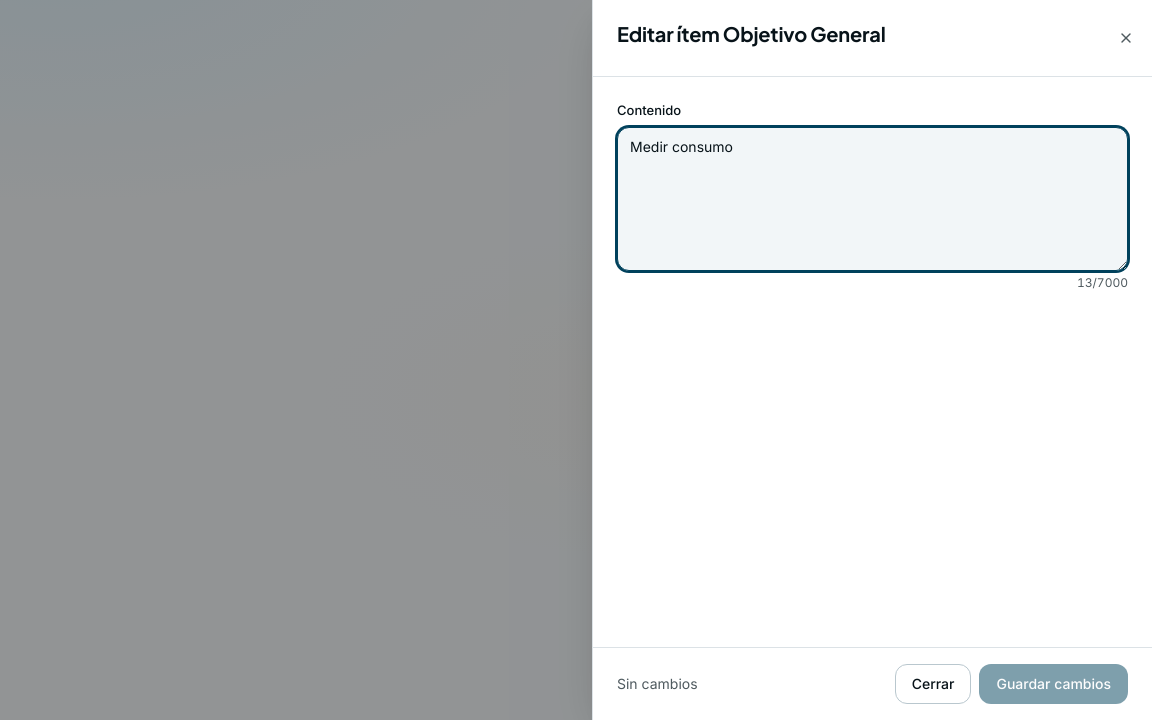
Test: EditarItemForm › cerrar sin cambios reinicia la mutación y cierra; con cambios pide confirmar
The image size is (1152, 720).
Click the button "Cerrar": (933, 684) [895,664,972,704]
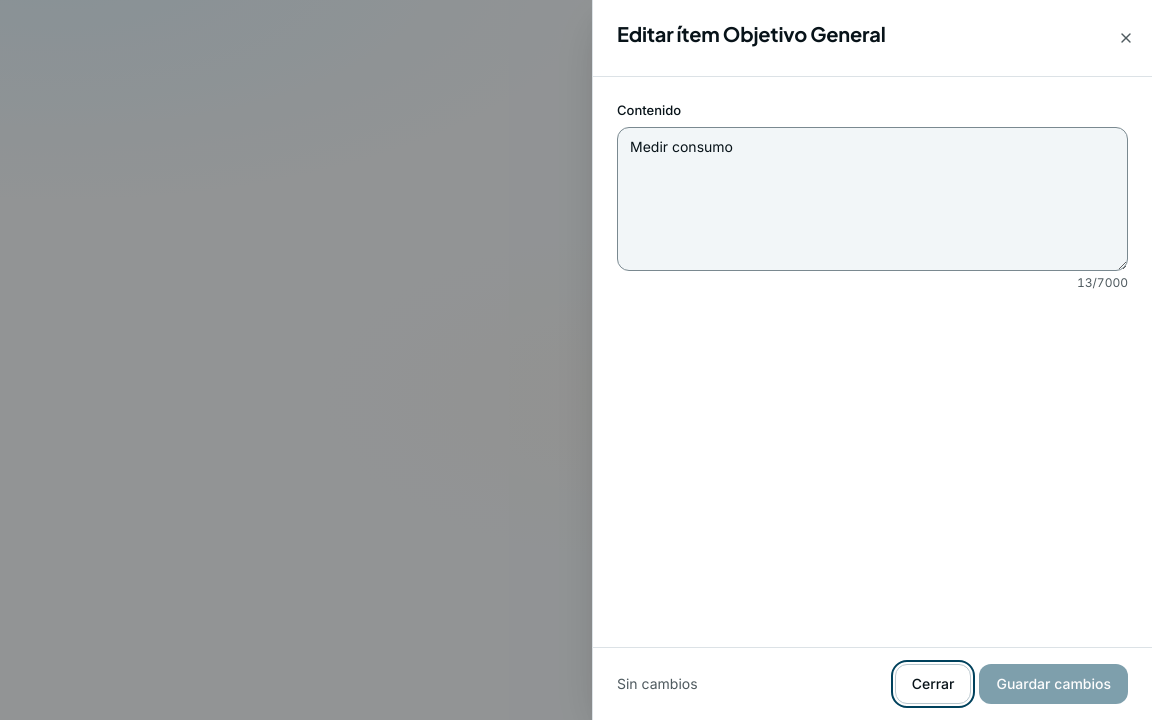
In the text box labelled "Contenido": (872, 198) [617,126,1128,270], type "!"
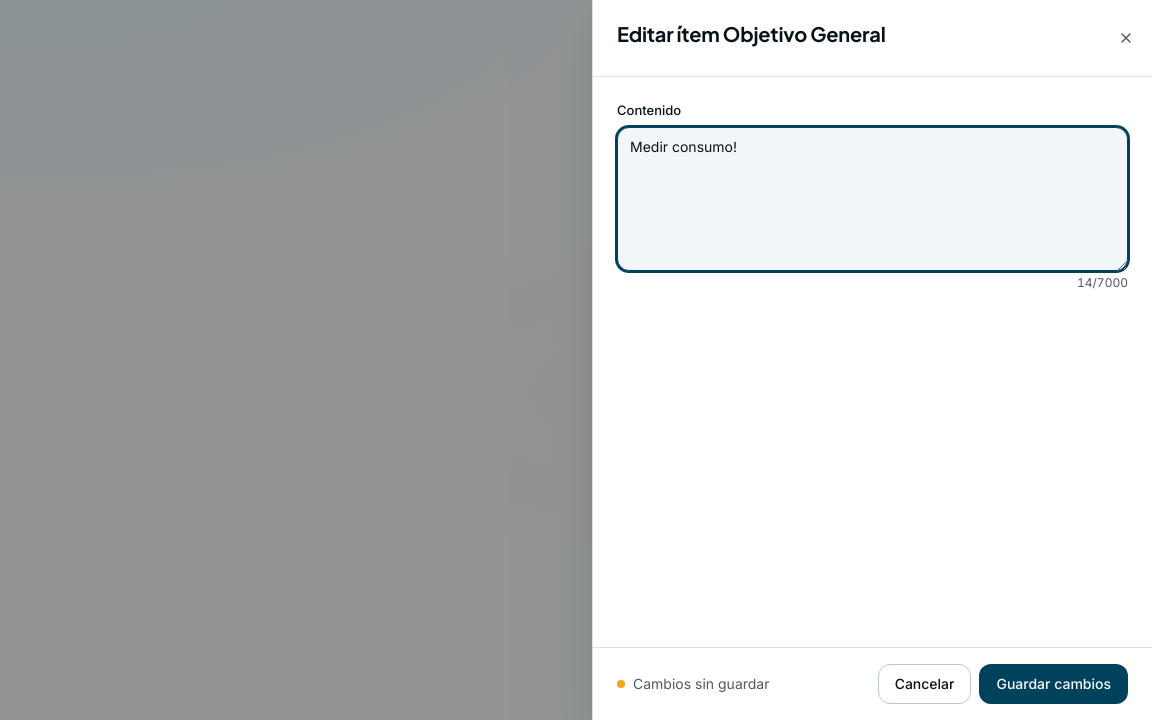
Click the button "Cancelar": (924, 684) [878,664,971,704]
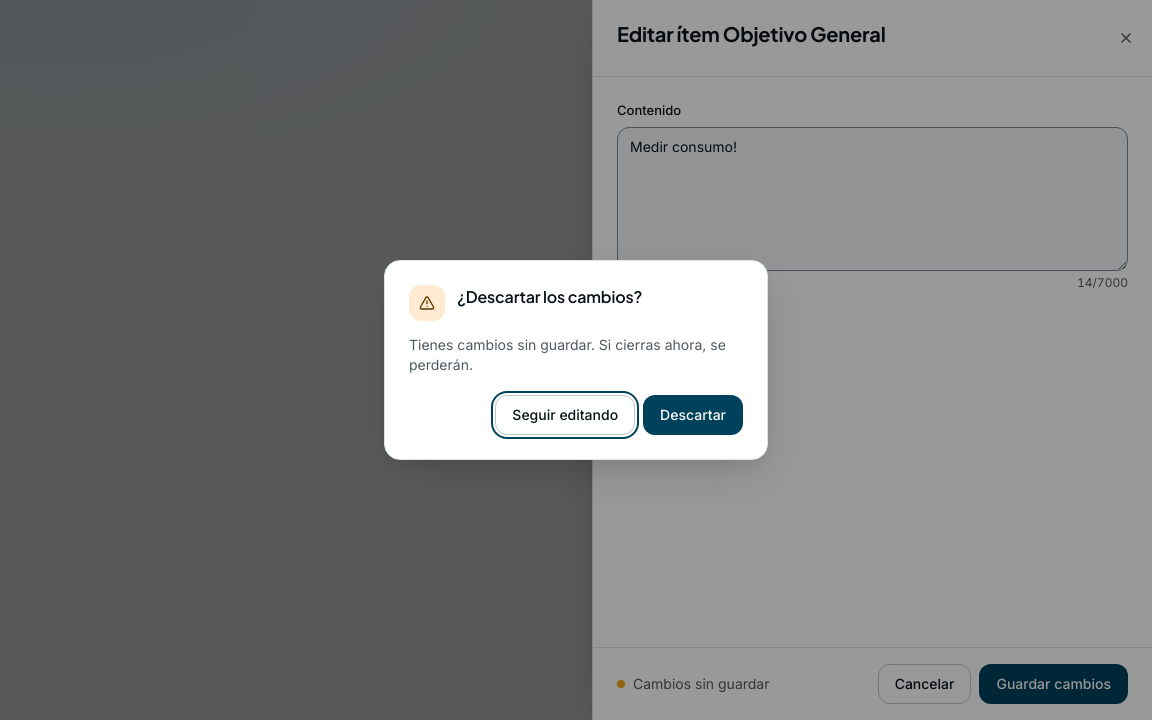
Expected: the heading "¿Descartar los cambios?" is shown, [457,285,642,309]
